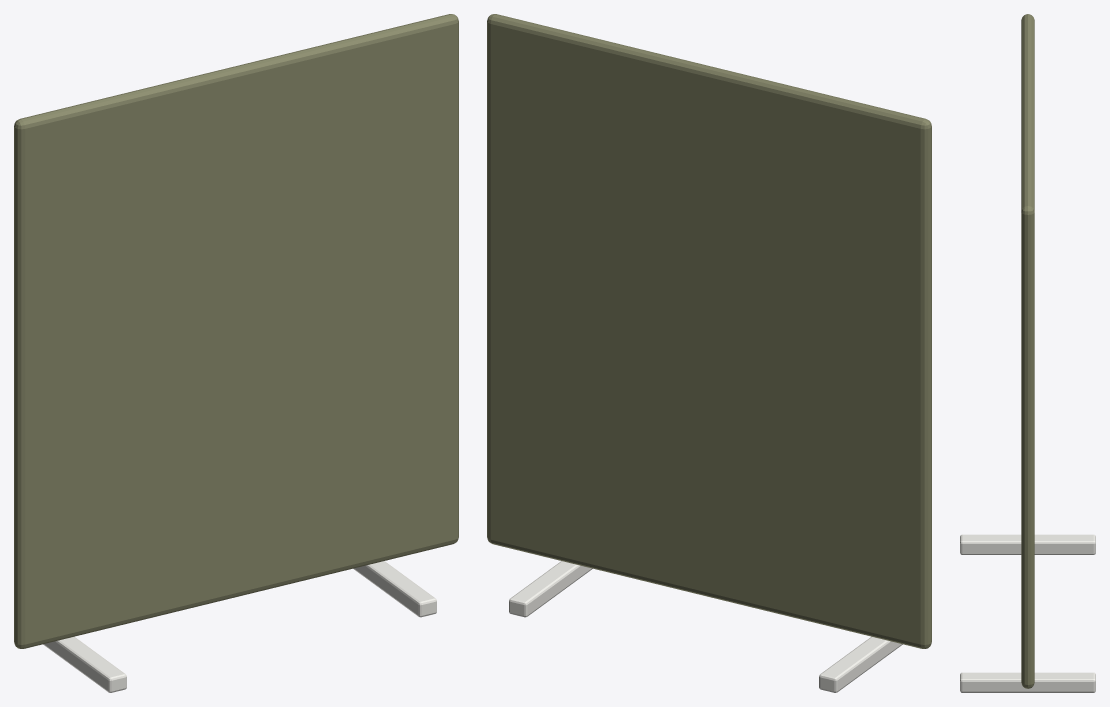
File: partitions___dividers_asset_catalog_56.glb
3 views of the same model, side by side, from view 1: azimuth 30°, elevation 25°; view 2: azimuth 150°, elevation 25°; view 3: azimuth 270°, elevation 25° (orthographic). The views are drawn at different scales.
Parts seen in each view (by area): view 1: Cube; view 2: Cube; view 3: Cube.
Part boxes in pixels (box(x1,y1,x2,y2)): Cube: box(14, 14, 458, 692); Cube: box(487, 14, 931, 692); Cube: box(960, 14, 1095, 692).
Bounding box in the file's own units: 1.2 × 1.45 × 0.35.
